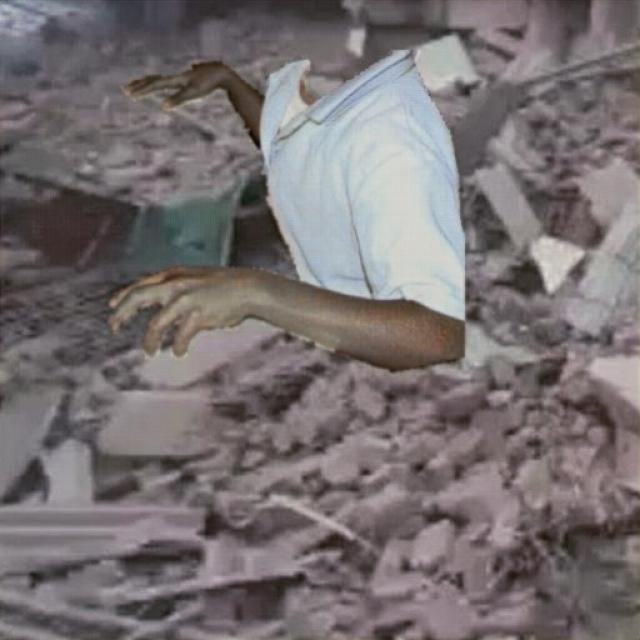Person in Rubble: (106, 50, 464, 371)
